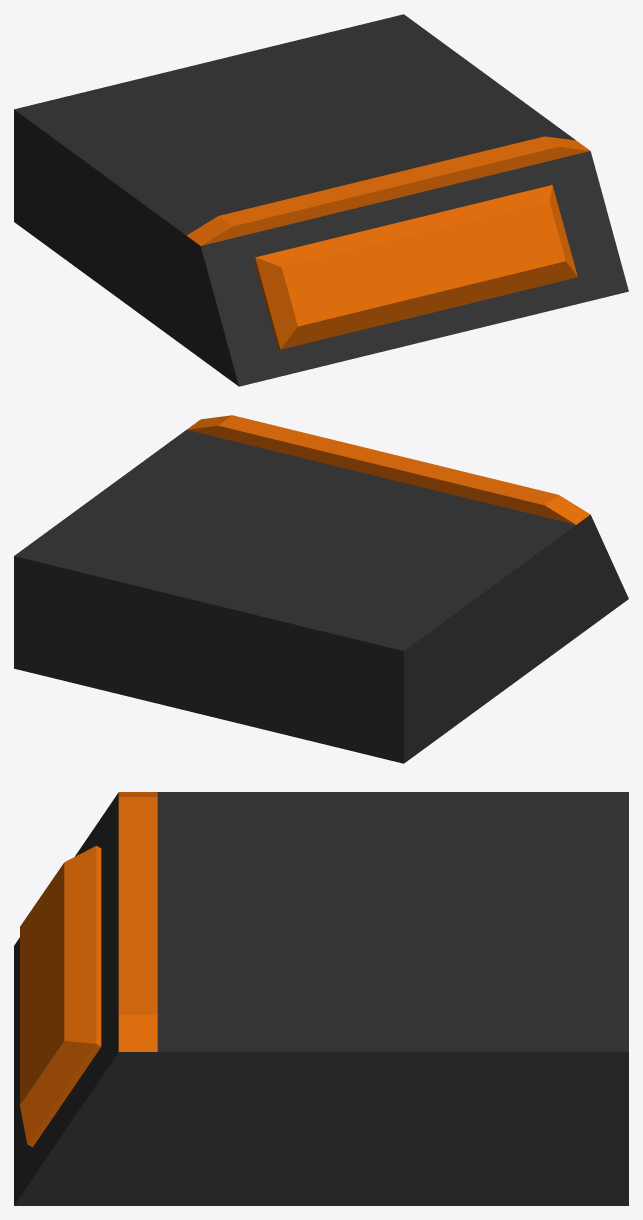
The model's file is block.fbx.
3 renders of one model, top to bottom at view 1: azimuth 30°, elevation 25°; view 2: azimuth 150°, elevation 25°; view 3: azimuth 270°, elevation 25°, orthographic. The views are drawn at different scales.
Visible parts, largest first — view 1: Cube.001; view 2: Cube.001; view 3: Cube.001.
Part boxes in pixels (left/top/right/bottom): Cube.001: left=14, top=14, right=628, bottom=386; Cube.001: left=14, top=415, right=628, bottom=763; Cube.001: left=14, top=792, right=628, bottom=1205.
Size of the model in its own units: 200 by 61 by 200.
